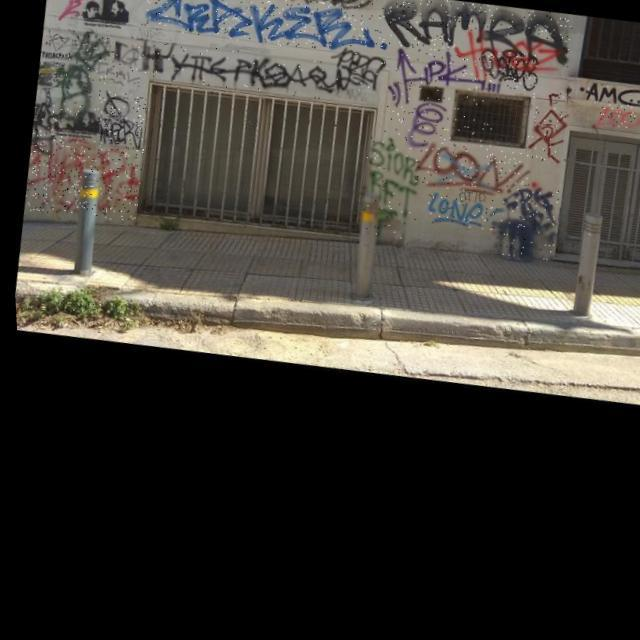-: (110, 30, 364, 113), (138, 0, 392, 68), (378, 45, 510, 163), (376, 0, 575, 77), (18, 130, 146, 228), (351, 138, 426, 252), (410, 140, 532, 206), (448, 30, 563, 99), (492, 186, 562, 268), (55, 30, 113, 124), (422, 192, 508, 239), (521, 94, 573, 170), (91, 90, 148, 150), (474, 49, 540, 98), (326, 45, 388, 97), (43, 0, 137, 33), (576, 82, 640, 121), (133, 0, 299, 10), (594, 106, 640, 142), (297, 0, 377, 18), (30, 100, 60, 138)
